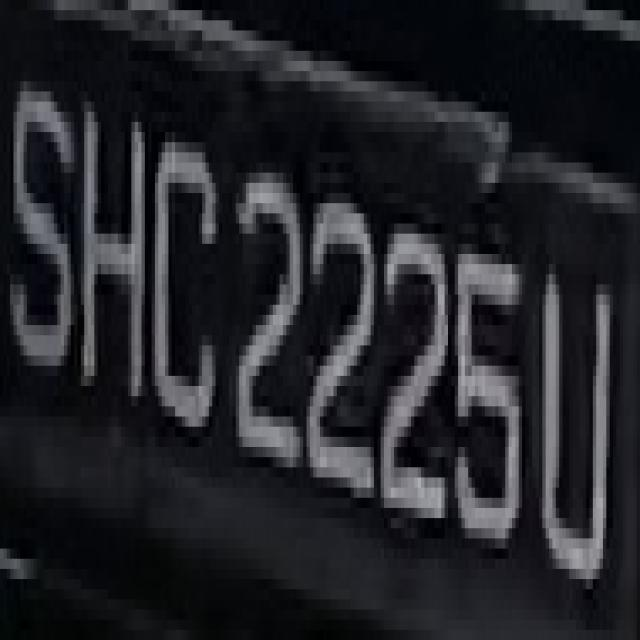2: (226, 122, 303, 508), (307, 152, 384, 538), (380, 183, 444, 528)
5: (444, 203, 528, 569)
C: (158, 91, 226, 478)
H: (81, 61, 151, 416)
S: (10, 51, 74, 396)
U: (539, 223, 616, 610)
